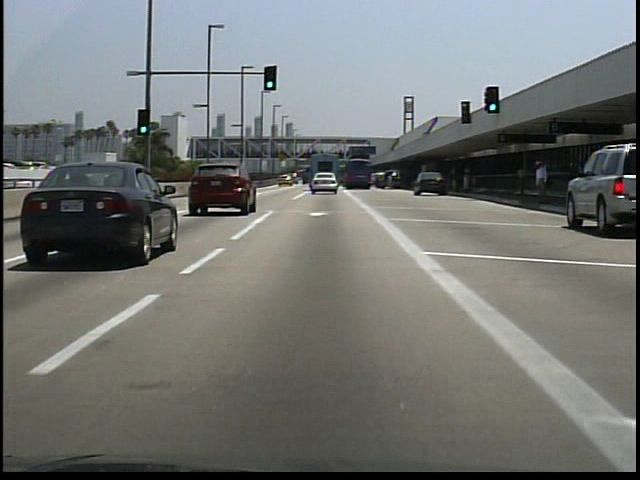person: (532, 157, 552, 209), (510, 155, 531, 203)
